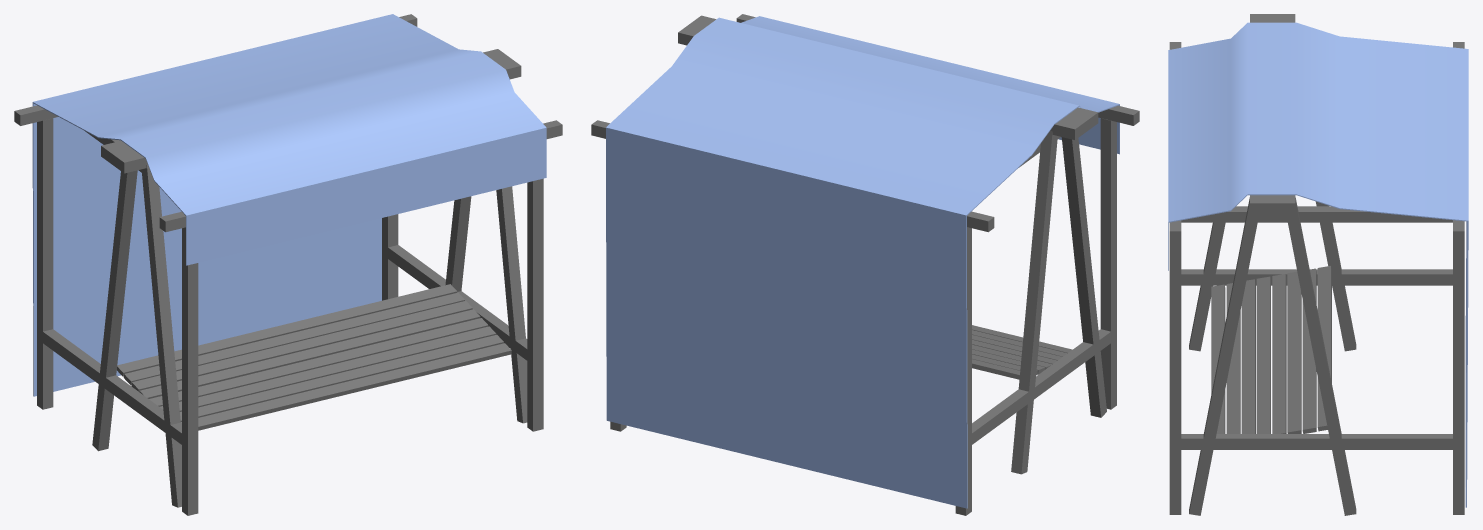
The model's file is MarketStandFBX.FBX.
The picture shows the model from 3 angles, left to right: view 1: azimuth 30°, elevation 25°; view 2: azimuth 150°, elevation 25°; view 3: azimuth 270°, elevation 25°; orthographic projection. The views are drawn at different scales.
Visible parts, largest first — view 1: Cloth, MarketPlace; view 2: Cloth, MarketPlace; view 3: Cloth, MarketPlace.
Part boxes in pixels (x1,y1,x2,y2): Cloth: (32, 14, 546, 396); MarketPlace: (14, 14, 562, 515); Cloth: (606, 16, 1119, 508); MarketPlace: (591, 14, 1139, 515); Cloth: (1168, 22, 1468, 507); MarketPlace: (1169, 14, 1464, 515).
Bounding box in the file's own units: 115 × 91.51 × 77.15.
